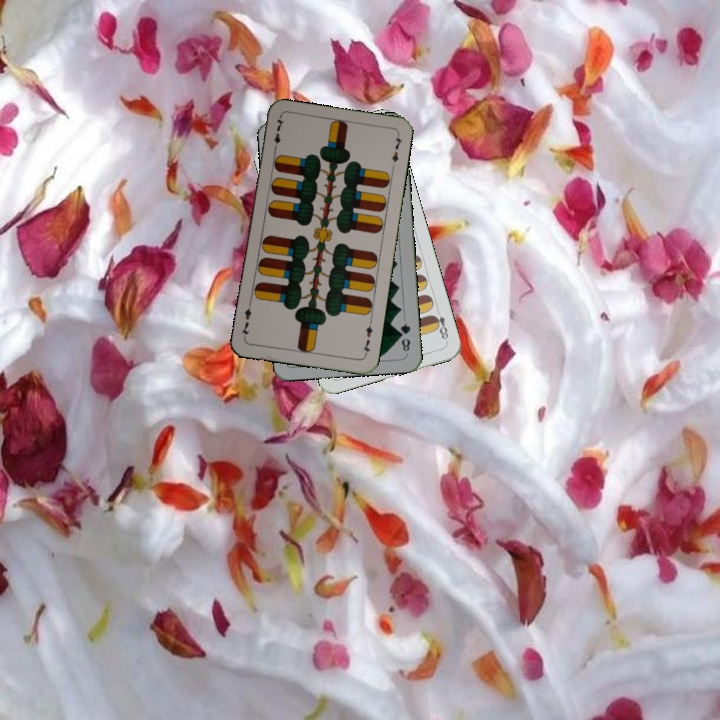E7: (270, 114, 287, 154), (359, 318, 375, 358)
E8: (428, 305, 451, 342)
G8: (396, 319, 413, 354)
